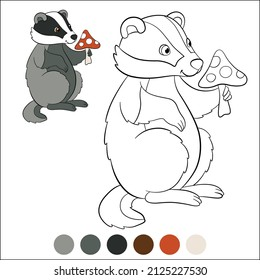animal: (106, 9, 226, 225), (20, 7, 87, 122)
